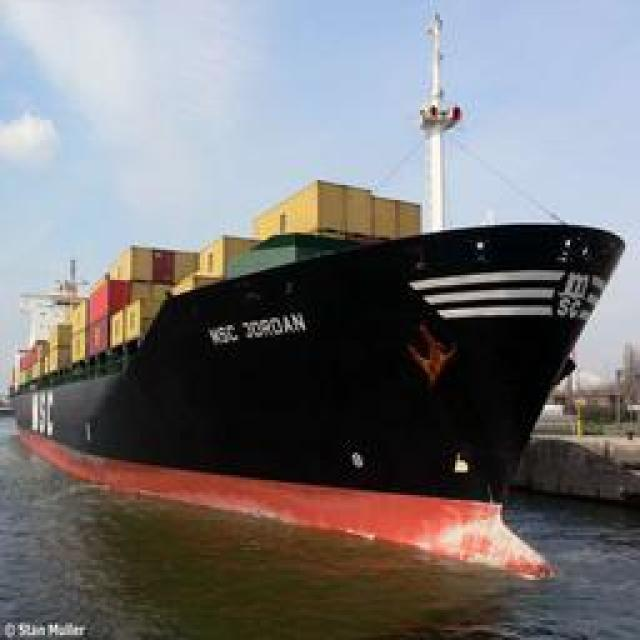CIV_Ship: (24, 215, 624, 535)
